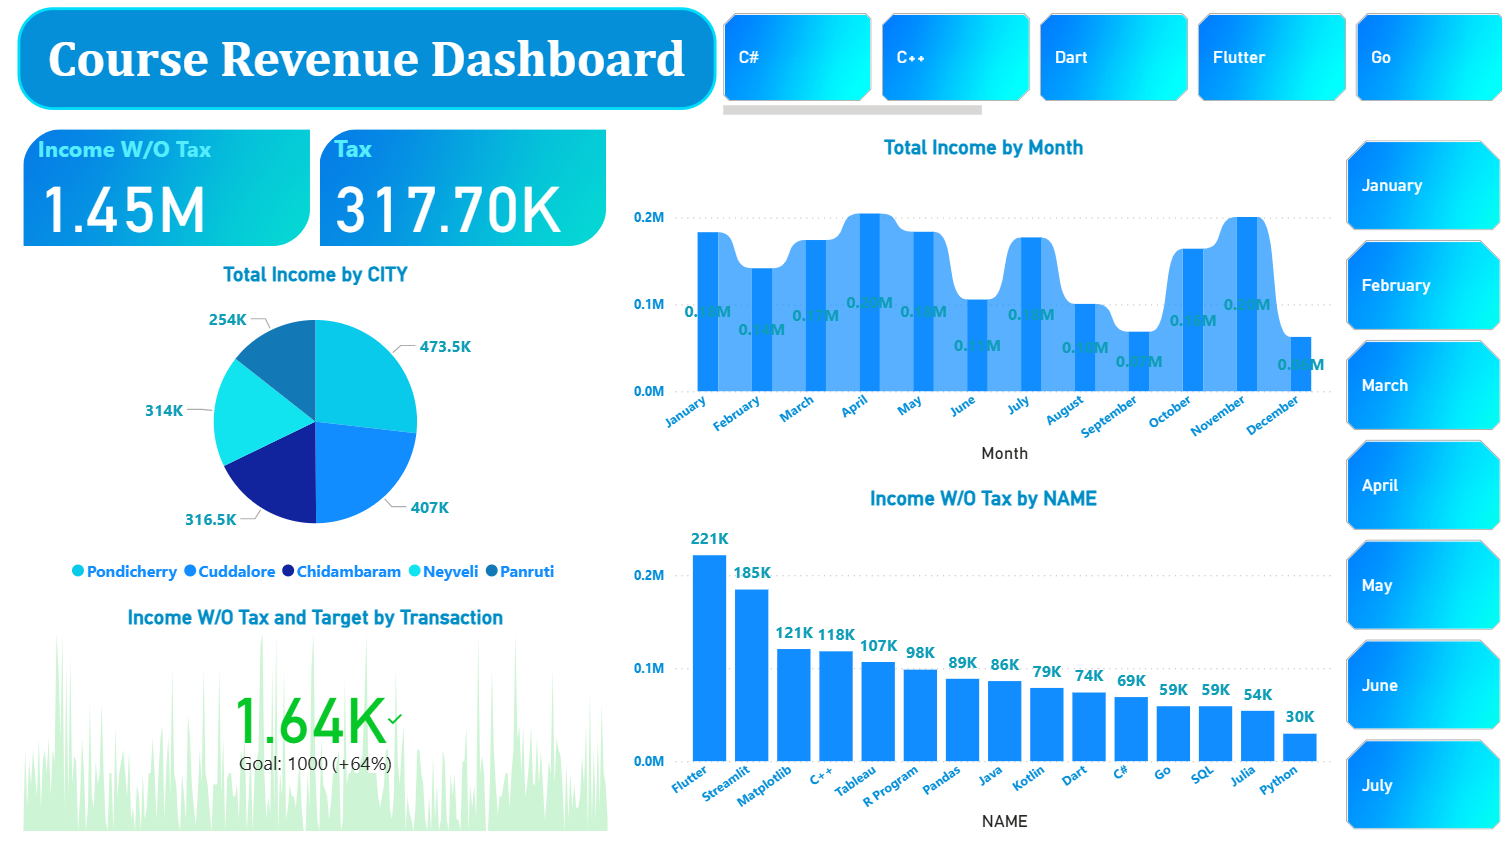

The dashboard page shown, as its layout file describes it:
{"tool":"powerbi","page":{"name":"Page 1","canvas":[1280,720],"ordinal":0},"visuals":[{"type":"columnChart","fields":{"Category":["courses.NAME"],"Y":["Calculation group.Income W/O Tax"]},"box":[527.8,416.4,599.3,295.4],"z":0},{"type":"ribbonChart","fields":{"Y":["payments.Total Income"],"Category":["payments.Date.Variation.Date Hierarchy.Month"]},"box":[527.8,120.9,599.3,280.7],"z":1000},{"type":"cardVisual","fields":{"Data":["Calculation group.Income W/O Tax","Calculation group.Tax"]},"box":[14.7,111.4,501.5,108.3],"z":2000},{"type":"pieChart","fields":{"Category":["students.CITY"],"Y":["payments.Total Income"]},"box":[14.7,228.2,501.5,278.6],"z":3000},{"type":"kpi","fields":{"Indicator":["Calculation group.Income W/O Tax"],"TrendLine":["payments.Transaction"],"Goal":["Calculation group.Target"]},"box":[14.7,516.2,501.5,195.6],"z":4000},{"type":"advancedSlicerVisual","fields":{"Values":["payments.Date.Variation.Date Hierarchy.Month"]},"box":[1126.7,120.9,153.5,590.7],"z":5000},{"type":"textbox","box":[15.1,14,588.4,86],"z":6000},{"type":"advancedSlicerVisual","fields":{"Values":["courses.NAME"]},"box":[603.5,13.7,668.7,97.8],"z":7000}]}

Visuals, with their boxes in screenshot pixels (x1, y1, x2, y2), scaled from the page's 1280x720 canvas onto the 1502x843 screenshot:
columnChart - courses.NAME x Calculation group.Income W/O Tax: <bbox>619, 488, 1323, 833</bbox>
ribbonChart - payments.Total Income x payments.Date.Variation.Date Hierarchy.Month: <bbox>619, 142, 1323, 470</bbox>
cardVisual - Calculation group.Income W/O Tax x Calculation group.Tax: <bbox>17, 130, 606, 257</bbox>
pieChart - students.CITY x payments.Total Income: <bbox>17, 267, 606, 593</bbox>
kpi - Calculation group.Income W/O Tax x payments.Transaction: <bbox>17, 604, 606, 833</bbox>
advancedSlicerVisual - payments.Date.Variation.Date Hierarchy.Month: <bbox>1322, 142, 1501, 833</bbox>
textbox: <bbox>18, 16, 708, 117</bbox>
advancedSlicerVisual - courses.NAME: <bbox>708, 16, 1493, 131</bbox>
